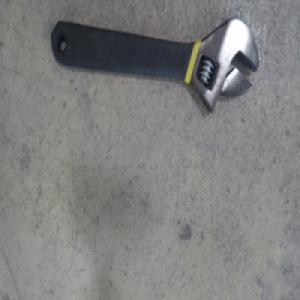AdjustableWrench: (50, 14, 257, 116)
